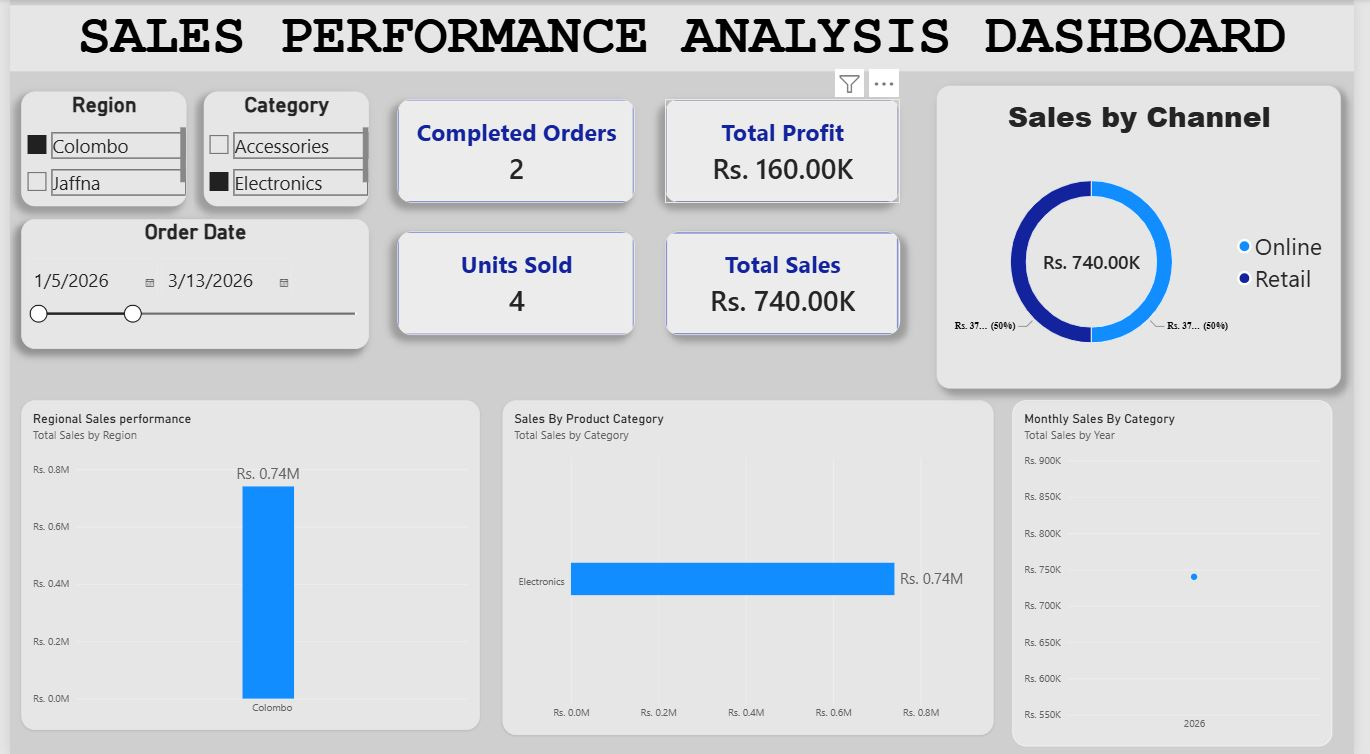

Layout of this report page (visuals, bound fields, positions):
{"tool":"powerbi","page":{"name":"Sales Overview","canvas":[1920,1080],"ordinal":0},"visuals":[{"type":"textbox","title":"SALES PERFORMANCE ANALYSIS DASHBOARD","box":[0,8.9,1921.4,94.6],"z":0},{"type":"cardVisual","fields":{"Data":["SalesData.Total Sales"]},"box":[935.7,332.1,335.7,148.2],"z":1000},{"type":"cardVisual","fields":{"Data":["SalesData.Total Profit"]},"box":[935.7,142.9,335.7,148.2],"z":2000},{"type":"cardVisual","fields":{"Data":["SalesData.Completed Orders"]},"box":[553.6,142.9,339.3,148.2],"z":3000},{"type":"cardVisual","fields":{"Data":["SalesData.Units Sold"]},"box":[553.6,332.1,339.3,148.2],"z":4000},{"type":"lineChart","title":"Monthly Sales By Category","fields":{"Category":["SalesData.OrderDate.Variation.Date Hierarchy.Year","SalesData.OrderDate.Variation.Date Hierarchy.Quarter","SalesData.OrderDate.Variation.Date Hierarchy.Month","SalesData.OrderDate.Variation.Date Hierarchy.Day"],"Y":["SalesData.Total Sales"]},"box":[1432.2,573.2,457.1,494.6],"z":5000},{"type":"clusteredBarChart","title":"Sales By Product Category","fields":{"Category":["SalesData.Category"],"Y":["SalesData.Total Sales"]},"box":[703.6,573.2,701.8,478.6],"z":6000},{"type":"clusteredColumnChart","title":"Regional Sales performance","fields":{"Category":["SalesData.Region"],"Y":["SalesData.Total Sales"]},"box":[16.1,573.2,655.4,471.4],"z":7000},{"type":"donutChart","title":"Sales by Channel","fields":{"Category":["SalesData.SalesChannel"],"Y":["SalesData.Total Sales"]},"box":[1323.2,123.2,578.6,433.9],"z":8000},{"type":"slicer","title":"Order Date","fields":{"Values":["SalesData.OrderDate"]},"box":[16.1,314.3,496.4,185.7],"z":9000},{"type":"slicer","title":"Region","fields":{"Values":["SalesData.Region"]},"box":[16.1,132.1,235.7,164],"z":10000},{"type":"slicer","title":"Category","fields":{"Values":["SalesData.Category"]},"box":[276.8,132.1,235.7,164.3],"z":11000}]}

Visuals, with their boxes in screenshot pixels (x1, y1, x2, y2), scaled from the page's 1920x1080 canvas onto the 1370x754 screenshot:
"SALES PERFORMANCE ANALYSIS DASHBOARD" textbox: rect(0, 6, 1369, 72)
cardVisual - SalesData.Total Sales: rect(668, 232, 907, 335)
cardVisual - SalesData.Total Profit: rect(668, 100, 907, 203)
cardVisual - SalesData.Completed Orders: rect(395, 100, 637, 203)
cardVisual - SalesData.Units Sold: rect(395, 232, 637, 335)
"Monthly Sales By Category" lineChart: rect(1022, 400, 1348, 745)
"Sales By Product Category" clusteredBarChart: rect(502, 400, 1003, 734)
"Regional Sales performance" clusteredColumnChart: rect(11, 400, 479, 729)
"Sales by Channel" donutChart: rect(944, 86, 1357, 389)
"Order Date" slicer: rect(11, 219, 366, 349)
"Region" slicer: rect(11, 92, 180, 207)
"Category" slicer: rect(198, 92, 366, 207)
